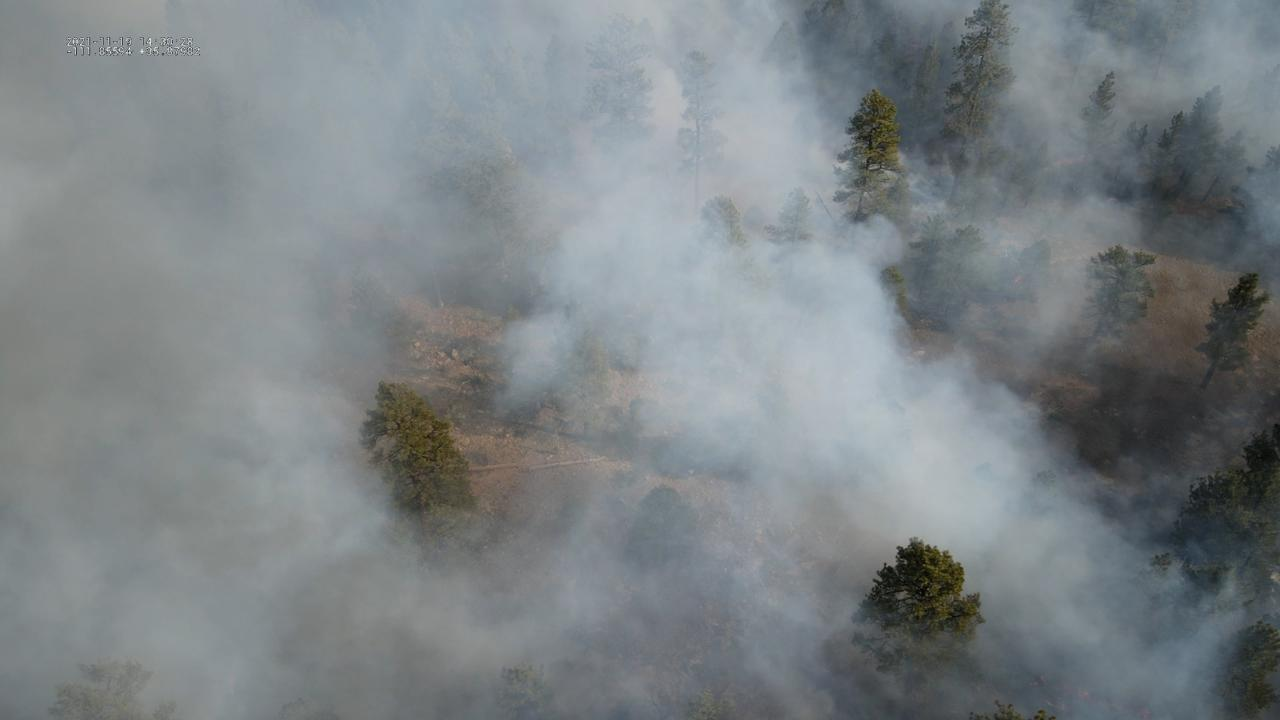fire: (1013, 273, 1024, 285)
smoke: (0, 0, 1280, 720)
